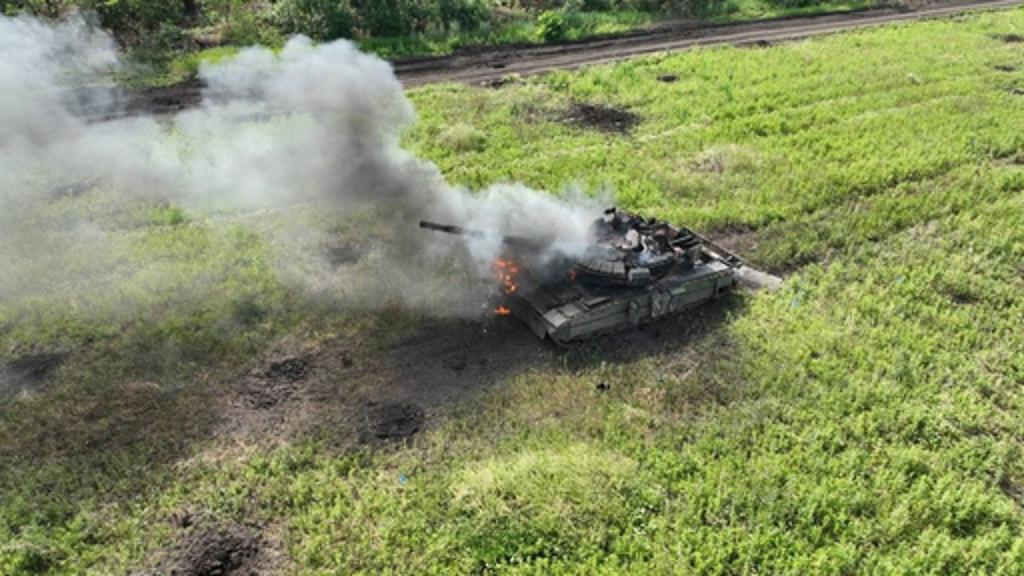TANK: (416, 200, 744, 352)
